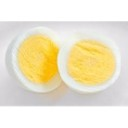begg: (58, 29, 122, 93), (6, 28, 55, 93)
